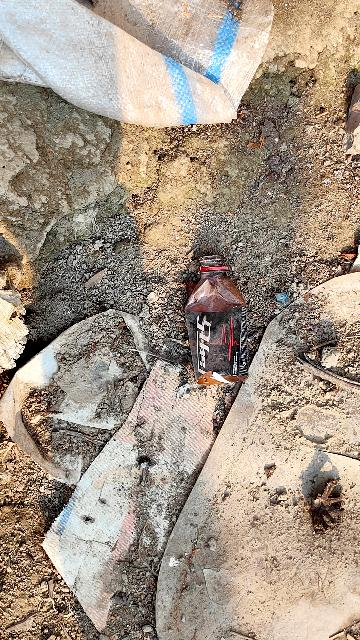bottle: (174, 249, 255, 389)
